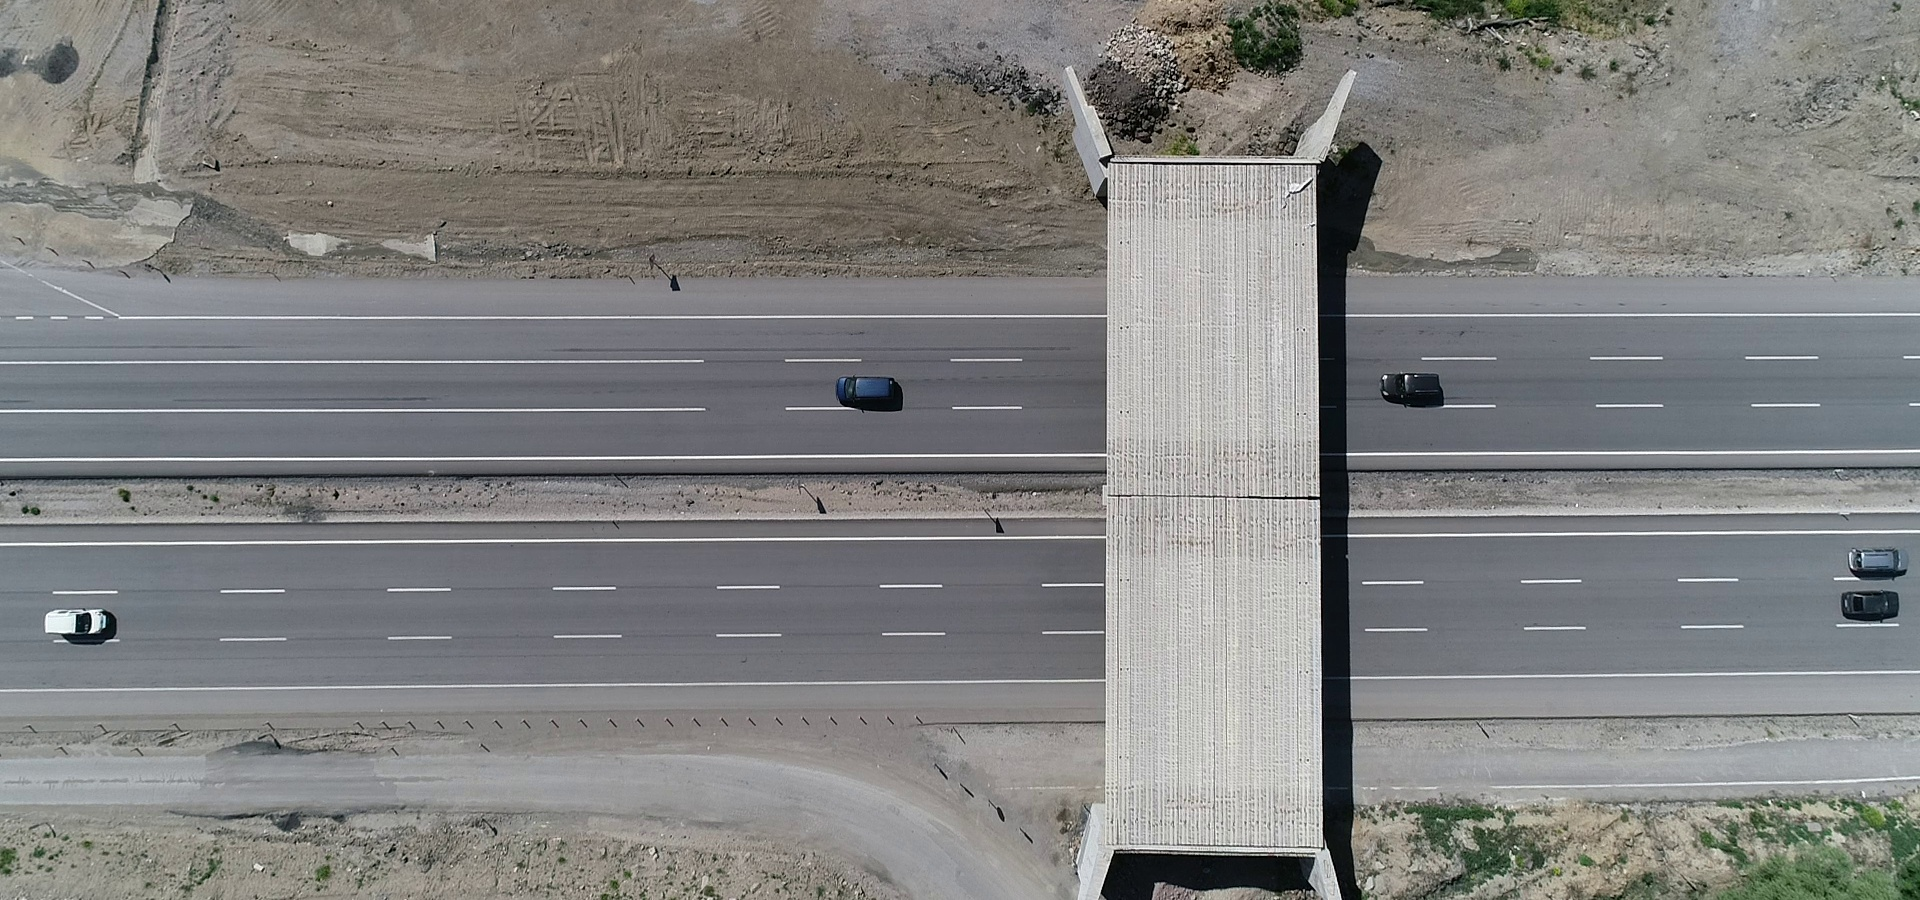arac: (835, 365, 902, 422), (39, 604, 116, 644), (1839, 580, 1914, 620), (1850, 538, 1918, 578), (1382, 369, 1451, 408)
